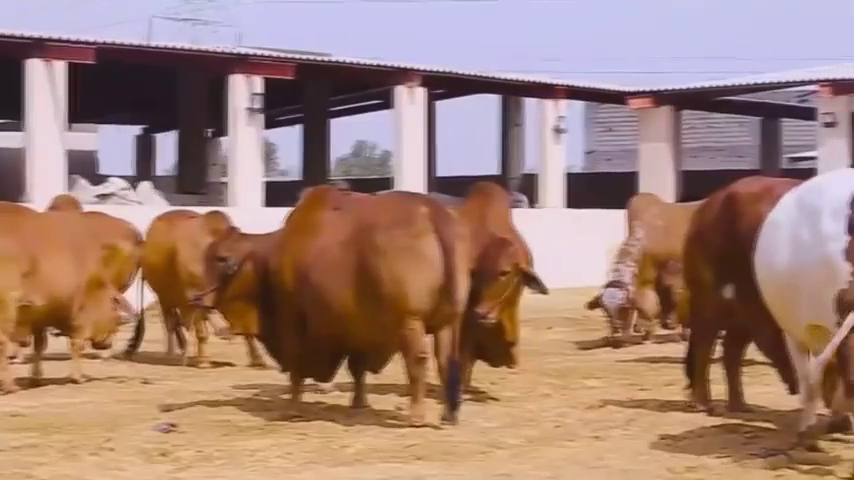bo: (178, 179, 480, 438), (670, 152, 853, 452), (7, 195, 145, 400), (124, 182, 261, 376), (439, 176, 553, 394), (572, 178, 697, 352)
